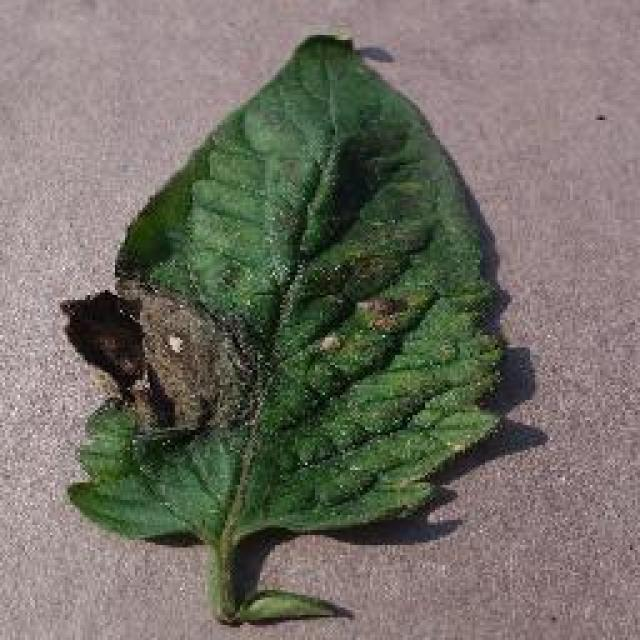Tomato Late Blight: (31, 207, 426, 423)
